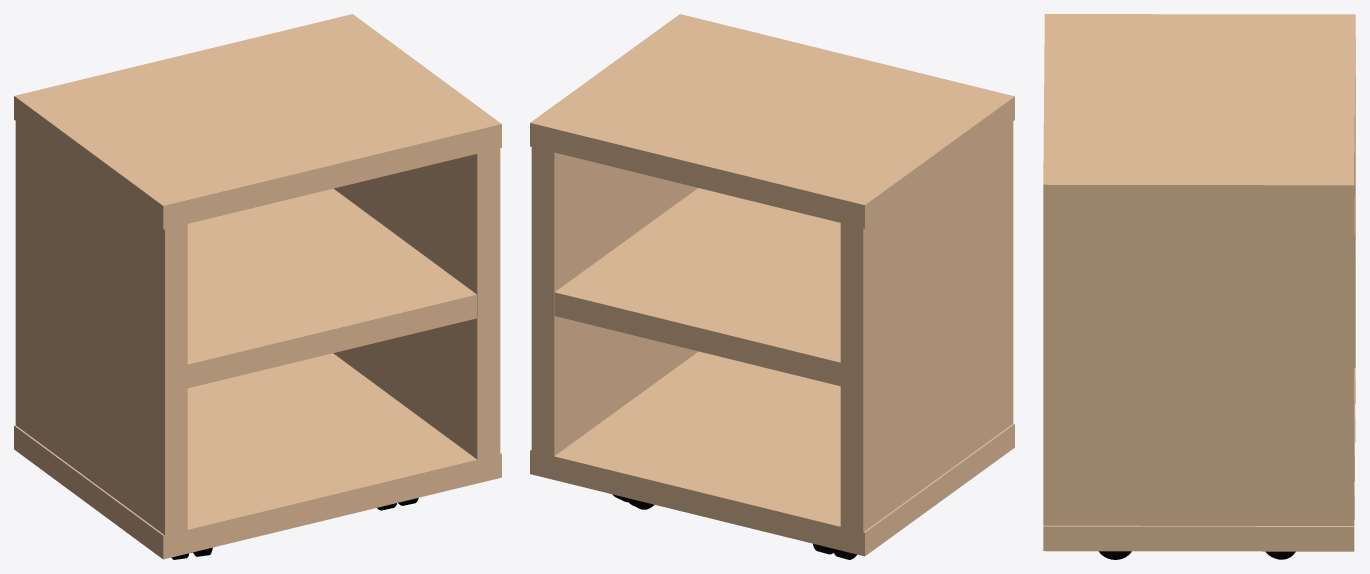
The model's file is PodstavkaDljaTV-1.fbx.
3 renders of one model, left to right at view 1: azimuth 30°, elevation 25°; view 2: azimuth 150°, elevation 25°; view 3: azimuth 270°, elevation 25°, orthographic. The views are drawn at different scales.
Visible parts, largest first — view 1: Cylinder.019; view 2: Cylinder.019; view 3: Cylinder.019.
Boxes of the visible parts, left/top/right/bottom form: Cylinder.019: left=14, top=14, right=501, bottom=559; Cylinder.019: left=530, top=14, right=1014, bottom=559; Cylinder.019: left=1043, top=14, right=1355, bottom=559.
Size of the model in its own units: 52.15 by 57.3 by 40.19.
